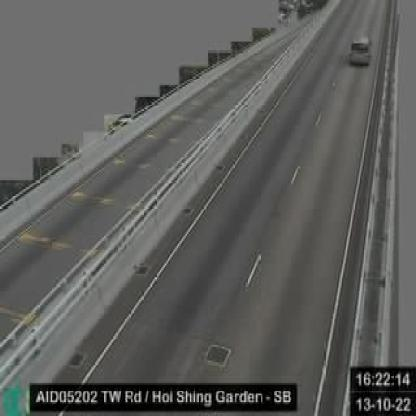Car: (350, 34, 371, 64)
